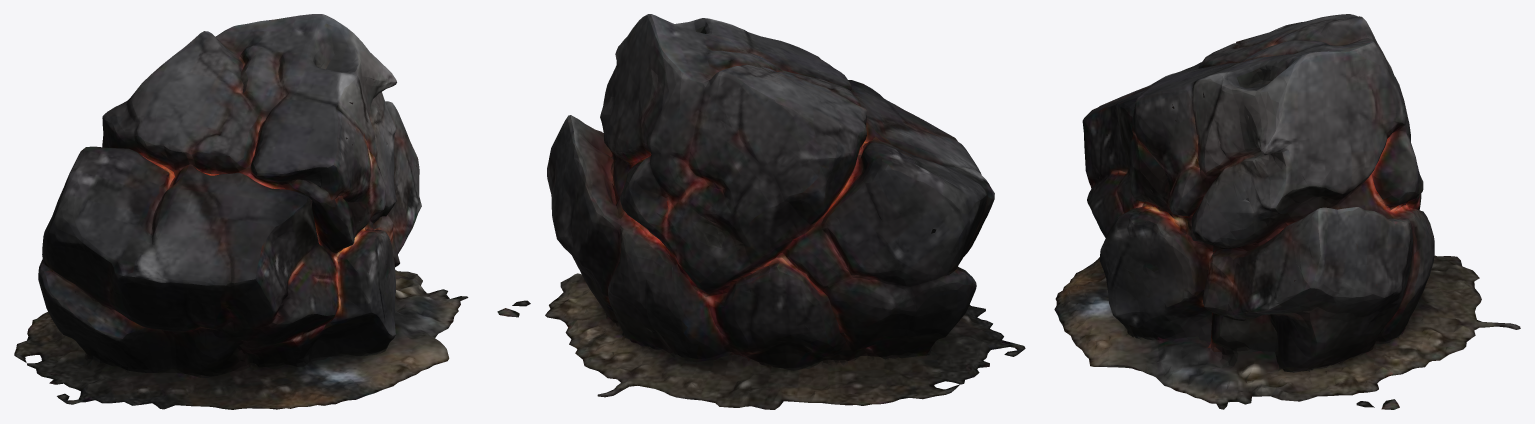
The model's file is rocher-lave.glb.
3 renders of one model, left to right at view 1: azimuth 30°, elevation 25°; view 2: azimuth 150°, elevation 25°; view 3: azimuth 270°, elevation 25°, orthographic. The views are drawn at different scales.
Parts seen in each view (by area): view 1: world; view 2: world; view 3: world.
Part boxes in pixels (x1=…): world: x1=14, y1=14, x2=468, y2=409; world: x1=497, y1=14, x2=1025, y2=409; world: x1=1054, y1=14, x2=1520, y2=409.
Size of the model in its own units: 1 by 0.675 by 0.9085.
Materials: 1 (1 with a texture image).
